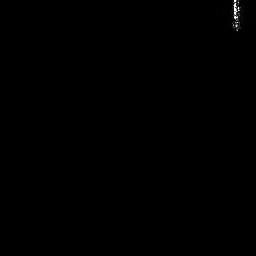ship: (232, 1, 241, 30)
